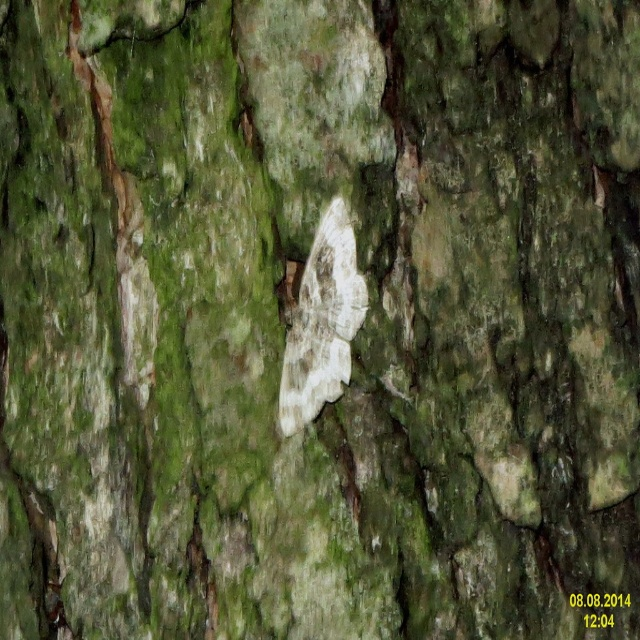Moths and butterflies: (275, 189, 370, 436)
